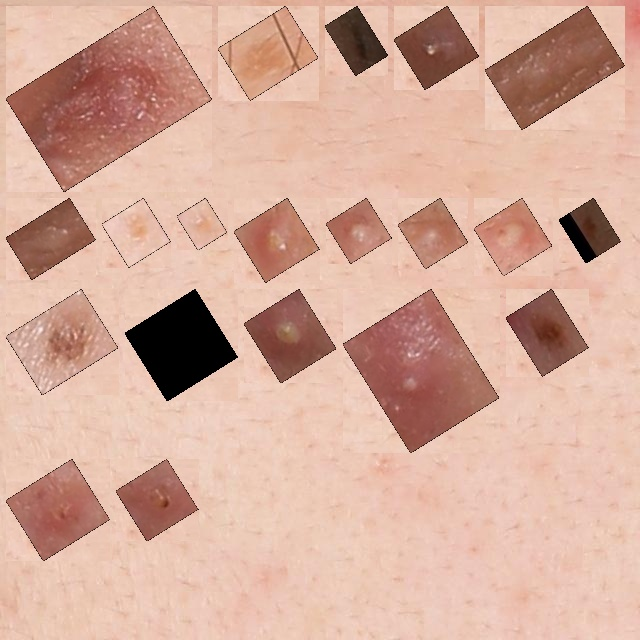hypertrophic_scar: (17, 17, 201, 180), (496, 17, 614, 118), (17, 209, 85, 268)
melasma: (136, 300, 227, 390), (229, 17, 307, 89), (113, 209, 160, 256), (188, 209, 216, 239)
nevus: (17, 300, 107, 384), (336, 17, 377, 64), (570, 209, 610, 252)
pustule: (354, 300, 488, 442), (17, 470, 99, 550), (255, 300, 325, 372), (245, 209, 308, 271), (405, 17, 468, 78), (127, 470, 187, 530), (485, 209, 541, 265), (409, 209, 457, 258), (337, 209, 381, 252)
